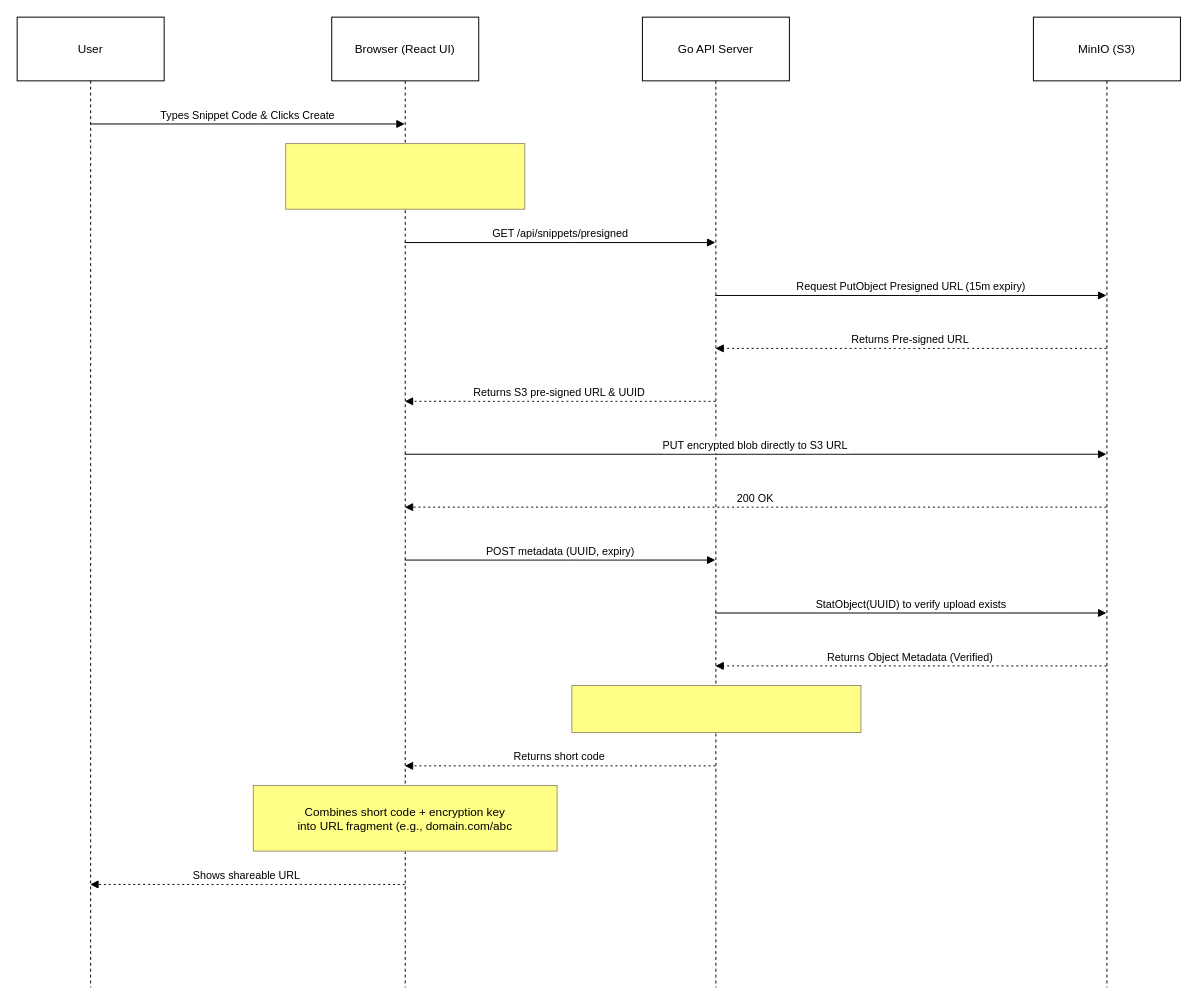
Some shapes in this 1198 by 1005 pixel diagram are drawn without their labels. The centre of each missing label's shape, as x and y in pixels:
Generates random 256-bit key Encrypts data via AES-256-GCM: the point at 405,176
Saves Snippet Metadata to PostgreSQL: the point at 716,709
